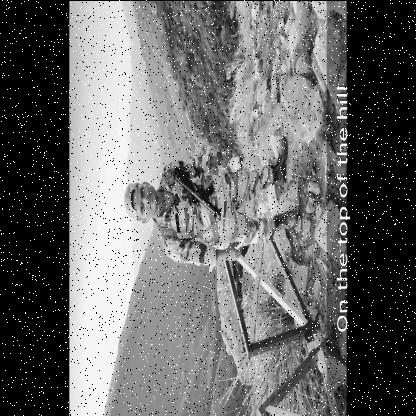rifle: (172, 162, 222, 222)
